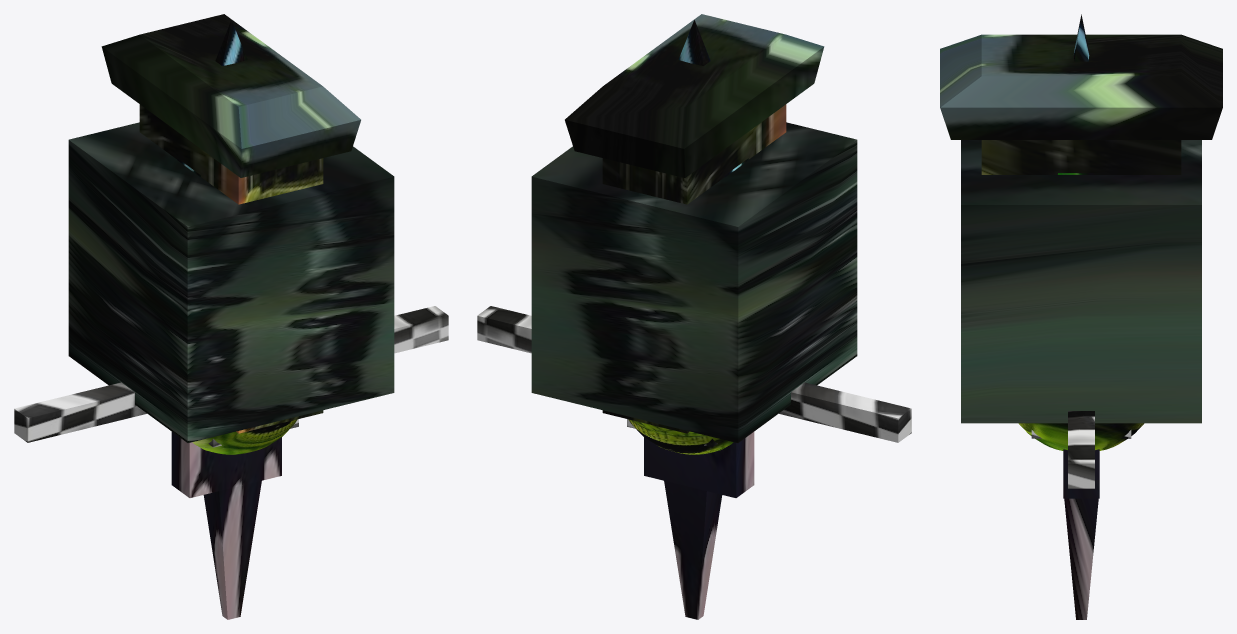
The model's file is BaseItemsMeshes_01.glb.
The picture shows the model from 3 angles, left to right: view 1: azimuth 30°, elevation 25°; view 2: azimuth 150°, elevation 25°; view 3: azimuth 270°, elevation 25°; orthographic projection.
Parts seen in each view (by area): view 1: Empty, Drain, Untraversable, Consume, Eat, Core, Move; view 2: Empty, Drain, Untraversable, Consume, Eat, Core, Move; view 3: Empty, Drain, Eat, Untraversable, Consume, Core, Move.
Part boxes in pixels (x1,y1,x2,y2): Empty: (68, 122, 394, 442); Drain: (101, 14, 360, 177); Untraversable: (171, 432, 281, 619); Consume: (14, 306, 448, 447); Eat: (139, 104, 323, 433); Core: (192, 419, 297, 454); Move: (177, 19, 247, 176); Empty: (531, 122, 857, 442); Drain: (565, 14, 824, 177); Untraversable: (644, 432, 754, 619); Consume: (477, 306, 911, 447); Eat: (602, 104, 786, 433); Core: (628, 419, 733, 454); Move: (678, 19, 748, 176); Empty: (961, 140, 1201, 423); Drain: (940, 34, 1222, 139); Eat: (981, 140, 1181, 174); Untraversable: (1063, 449, 1099, 619); Consume: (1031, 411, 1131, 488); Core: (1018, 423, 1144, 450); Move: (1057, 14, 1105, 174).
Size of the model in its own units: 0.6113 by 0.8282 by 0.3521.
7 materials, 7 textured.
